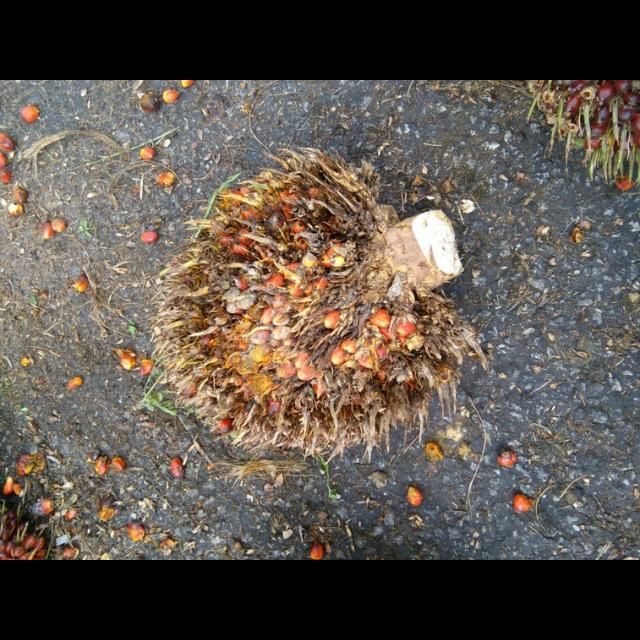Overripe: (146, 153, 489, 453)
